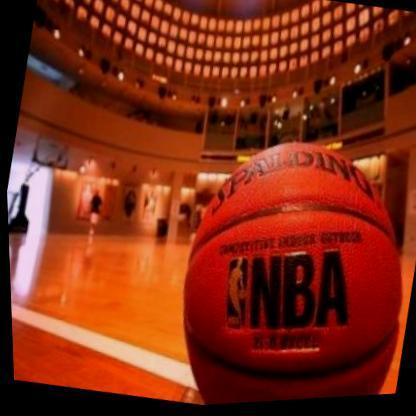basketball: (148, 111, 416, 409)
